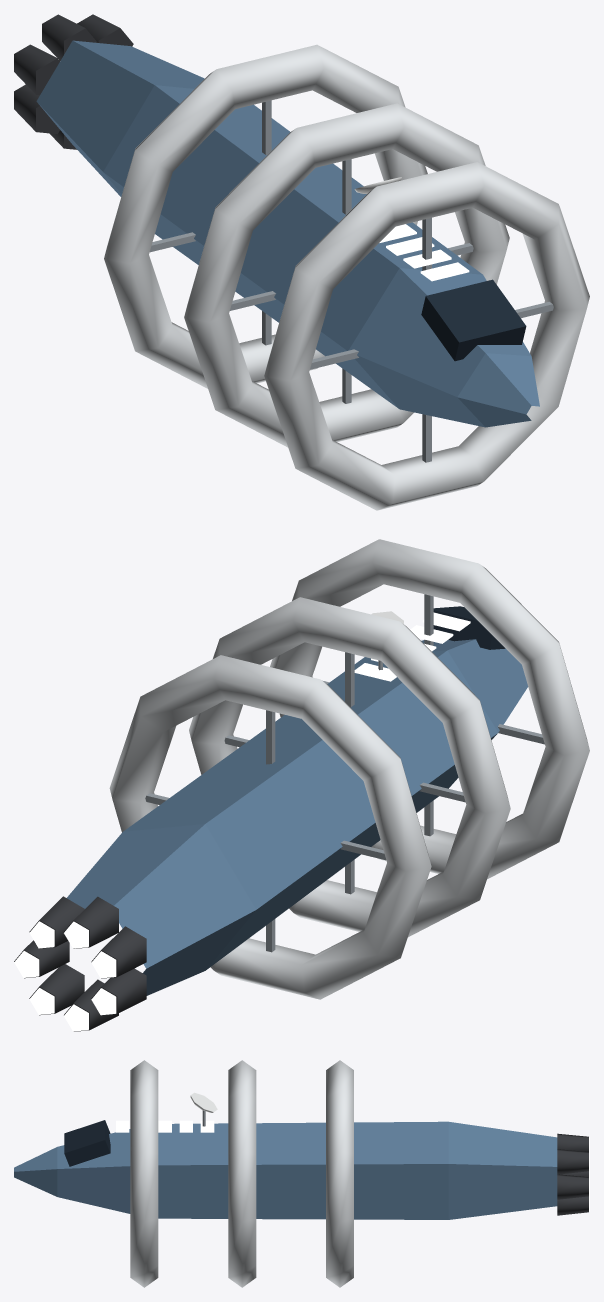
The model's file is space_ship_colony_transport_mk6_lod1.glb.
3 views of the same model, one above another, from view 1: azimuth 30°, elevation 25°; view 2: azimuth 150°, elevation 25°; view 3: azimuth 270°, elevation 25° (orthographic). The views are drawn at different scales.
Parts seen in each view (by area): view 1: body, habitat_ring_2, habitat_ring_1, habitat_ring_0, engine_3, engine_2, engine_4, engine_1; view 2: body, habitat_ring_0, habitat_ring_1, habitat_ring_2, engine_3, engine_2, engine_6, engine_4, engine_1, engine_0, engine_5; view 3: body, habitat_ring_1, habitat_ring_2, habitat_ring_0, engine_1, engine_0, engine_6, engine_2, antenna_0.
Part boxes in pixels (<box>): body: <box>36,40,539,427</box>; habitat_ring_2: <box>264,162,589,510</box>; habitat_ring_1: <box>184,103,509,447</box>; habitat_ring_0: <box>104,44,427,388</box>; engine_3: <box>14,44,59,94</box>; engine_2: <box>42,14,97,60</box>; engine_4: <box>14,84,59,134</box>; engine_1: <box>77,14,133,46</box>; body: <box>67,606,528,995</box>; habitat_ring_0: <box>109,655,431,999</box>; habitat_ring_1: <box>189,597,510,937</box>; habitat_ring_2: <box>270,539,589,879</box>; engine_3: <box>91,926,146,978</box>; engine_2: <box>63,896,118,948</box>; engine_6: <box>29,964,84,1015</box>; engine_4: <box>91,968,146,1015</box>; engine_1: <box>29,896,84,948</box>; engine_0: <box>14,940,69,978</box>; engine_5: <box>64,979,118,1031</box>; body: <box>14,1120,557,1219</box>; habitat_ring_1: <box>228,1060,256,1287</box>; habitat_ring_2: <box>130,1060,158,1287</box>; habitat_ring_0: <box>326,1060,353,1287</box>; engine_1: <box>557,1149,589,1174</box>; engine_0: <box>557,1174,589,1199</box>; engine_6: <box>557,1195,589,1215</box>; engine_2: <box>557,1133,589,1152</box>; antenna_0: <box>190,1092,217,1126</box>.
Bounding box in the file's own units: 27.03 × 25.71 × 67.84.
